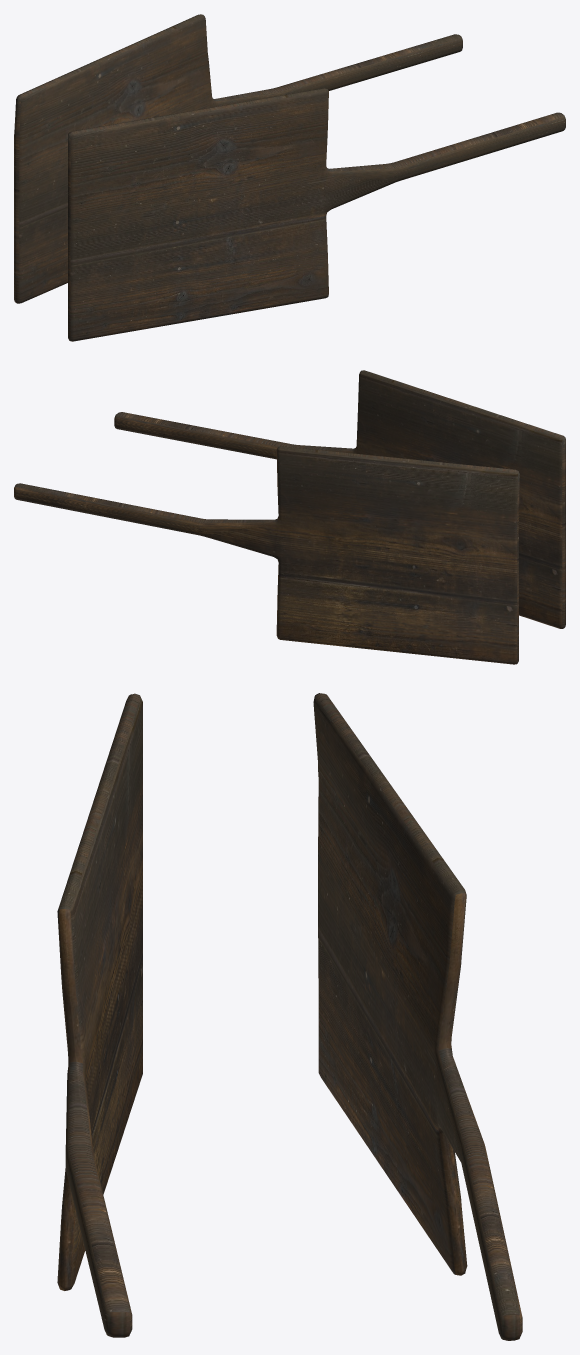
File: Room_G_bellows_handles.gltf
3 renders of one model, top to bottom at view 1: azimuth 30°, elevation 25°; view 2: azimuth 150°, elevation 25°; view 3: azimuth 270°, elevation 25°, orthographic. The views are drawn at different scales.
Visible parts, largest first — view 1: Room_G_bellows_handles_Plane.017; view 2: Room_G_bellows_handles_Plane.017; view 3: Room_G_bellows_handles_Plane.017.
Boxes of the visible parts, x1=… form: Room_G_bellows_handles_Plane.017: x1=14, y1=14, x2=565, y2=341; Room_G_bellows_handles_Plane.017: x1=14, y1=370, x2=565, y2=664; Room_G_bellows_handles_Plane.017: x1=57, y1=693, x2=522, y2=1340.
Bounding box in the file's own units: 0.8905 × 0.3598 × 0.392.
Materials: 1 (1 with a texture image).
